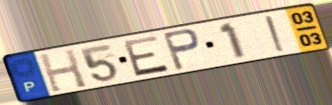1: (217, 21, 252, 61)
5: (77, 42, 122, 84)
E: (121, 34, 173, 79)
H: (37, 47, 90, 94)
I: (262, 14, 288, 54)
P: (160, 27, 202, 72)
